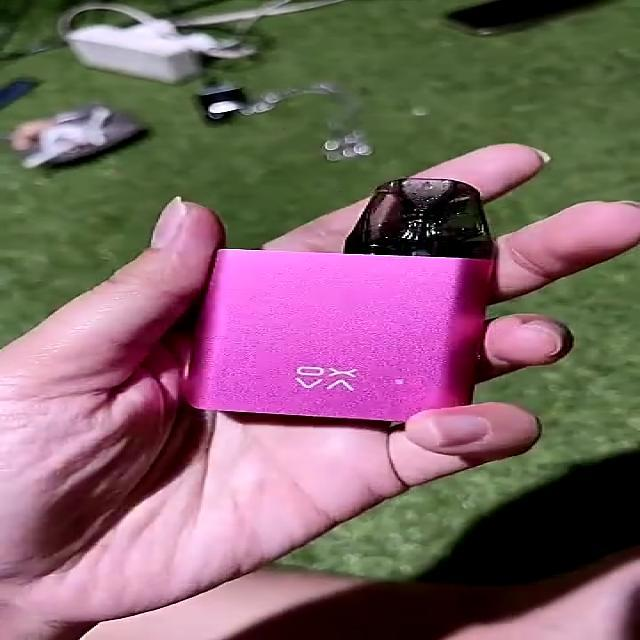Hazard: (183, 178, 498, 420)
